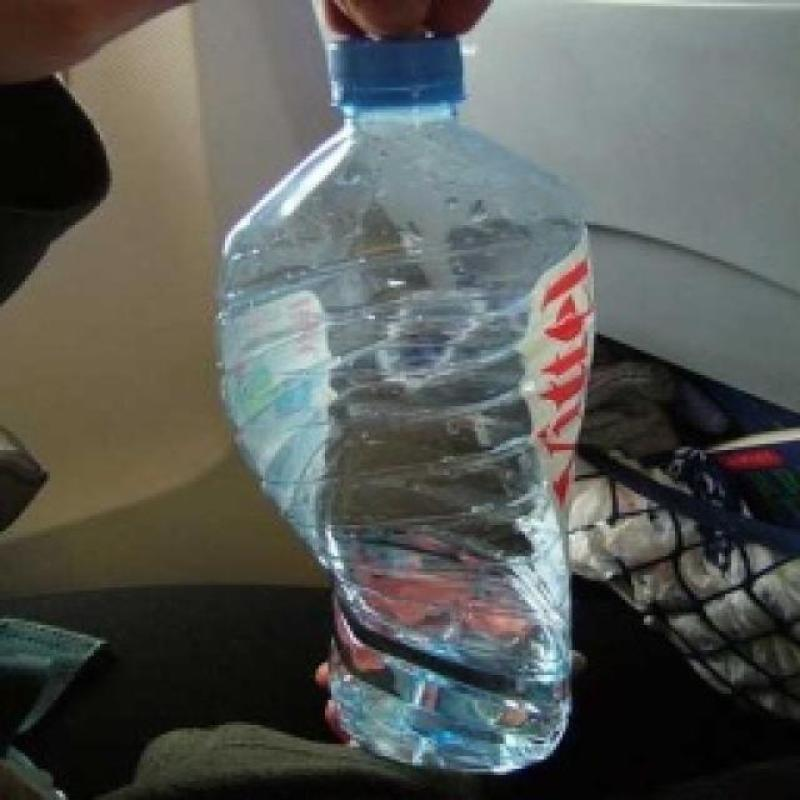botella: (209, 38, 600, 772)
